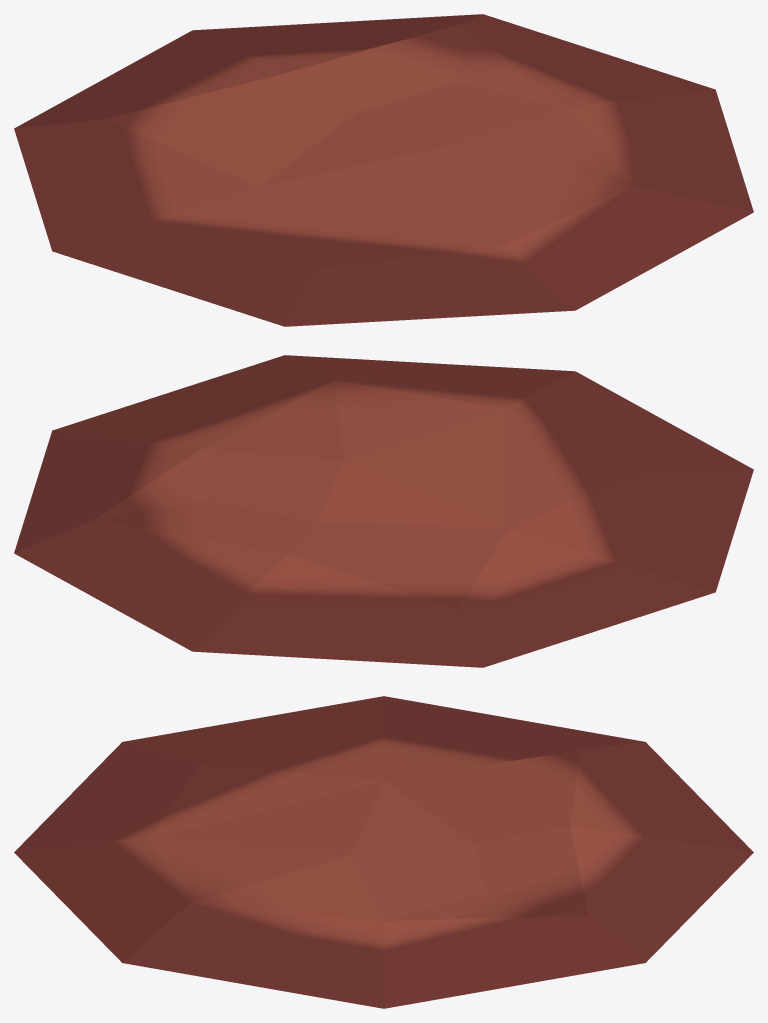
File: SM_Prop_Pot_Large_Soup_02.fbx
3 views of the same model, one above another, from view 1: azimuth 30°, elevation 25°; view 2: azimuth 150°, elevation 25°; view 3: azimuth 270°, elevation 25° (orthographic). The views are drawn at different scales.
Parts seen in each view (by area): view 1: SM_Prop_Pot_Large_Soup_02; view 2: SM_Prop_Pot_Large_Soup_02; view 3: SM_Prop_Pot_Large_Soup_02.
Part boxes in pixels (bbox=[...]): SM_Prop_Pot_Large_Soup_02: bbox=[14, 14, 753, 326]; SM_Prop_Pot_Large_Soup_02: bbox=[14, 355, 753, 667]; SM_Prop_Pot_Large_Soup_02: bbox=[14, 696, 753, 1008].
Bounding box in the file's own units: 119 × 4.72 × 119.
